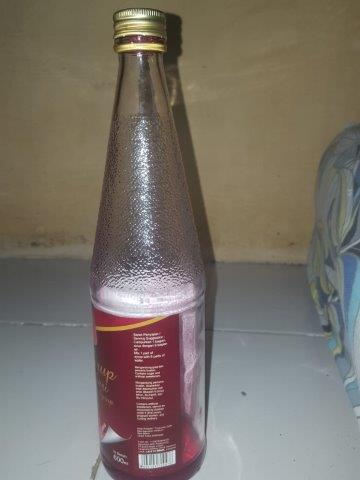botolkaca: (87, 10, 208, 480)
